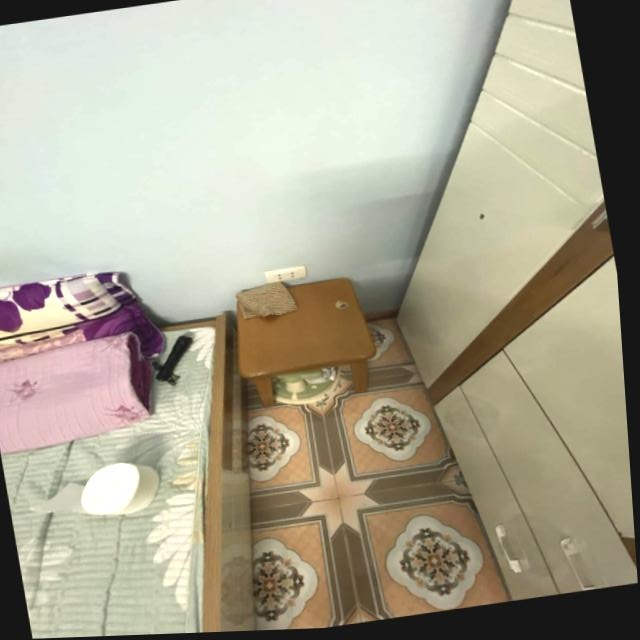outlet: (263, 266, 307, 285)
